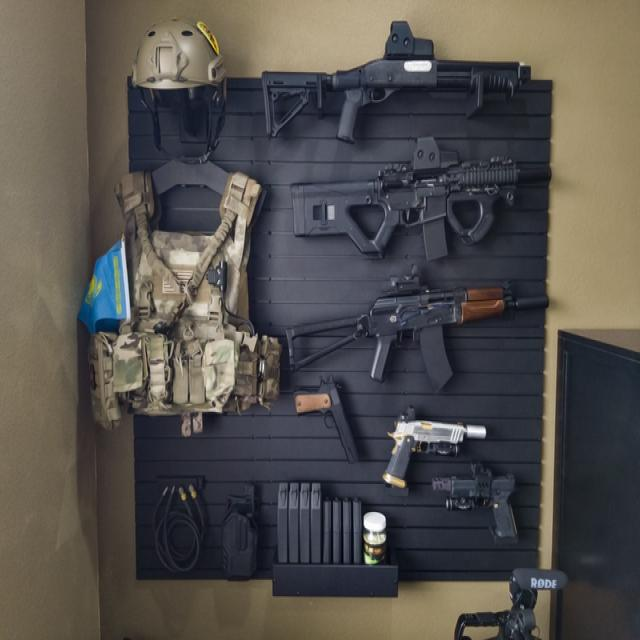HandGun: (382, 419, 489, 488), (432, 467, 517, 537), (294, 377, 358, 464)
Rifle: (291, 137, 551, 261), (287, 276, 547, 393)
ShotGun: (263, 21, 531, 144)
